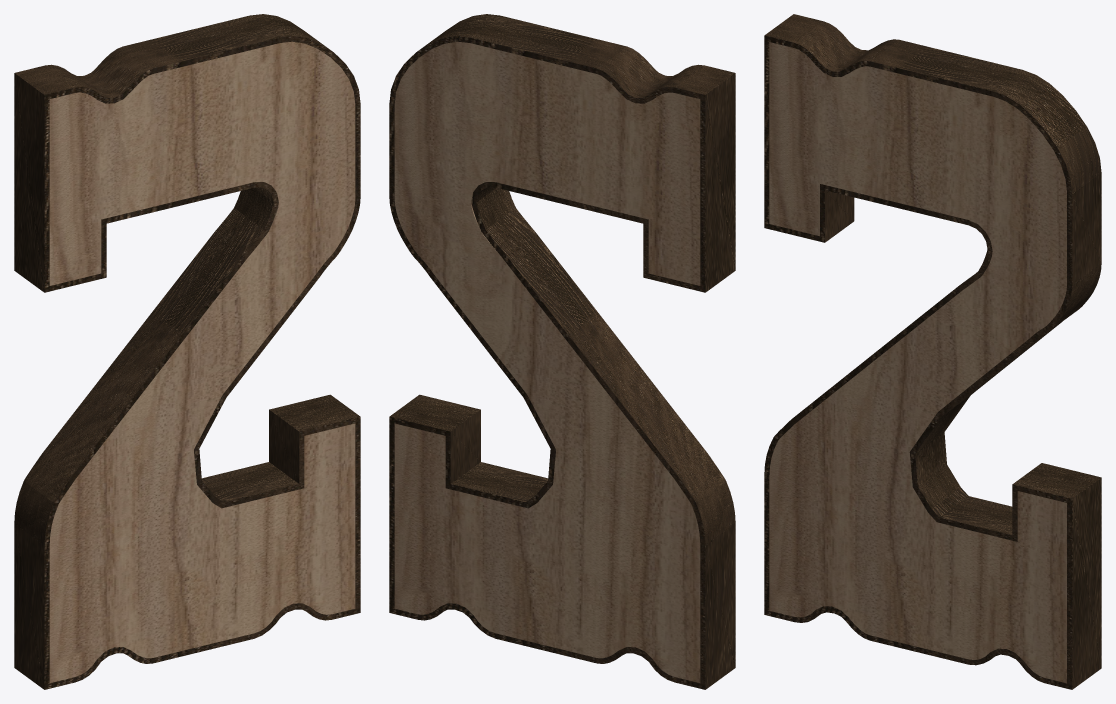
The picture shows the model from 3 angles, left to right: view 1: azimuth 30°, elevation 25°; view 2: azimuth 150°, elevation 25°; view 3: azimuth 330°, elevation 25°; orthographic projection. The views are drawn at different scales.
Parts seen in each view (by area): view 1: 2, 2_outline; view 2: 2, 2_outline; view 3: 2, 2_outline.
Part boxes in pixels (box(x1,y1,x2,y2)): 2: box(49, 41, 355, 682); 2_outline: box(14, 14, 360, 689); 2: box(394, 41, 700, 682); 2_outline: box(389, 14, 735, 689); 2: box(769, 42, 1066, 683); 2_outline: box(764, 14, 1101, 689).
Bounding box in the file's own units: 60.5 × 109 × 10.
Materials: 2 (2 with a texture image).
